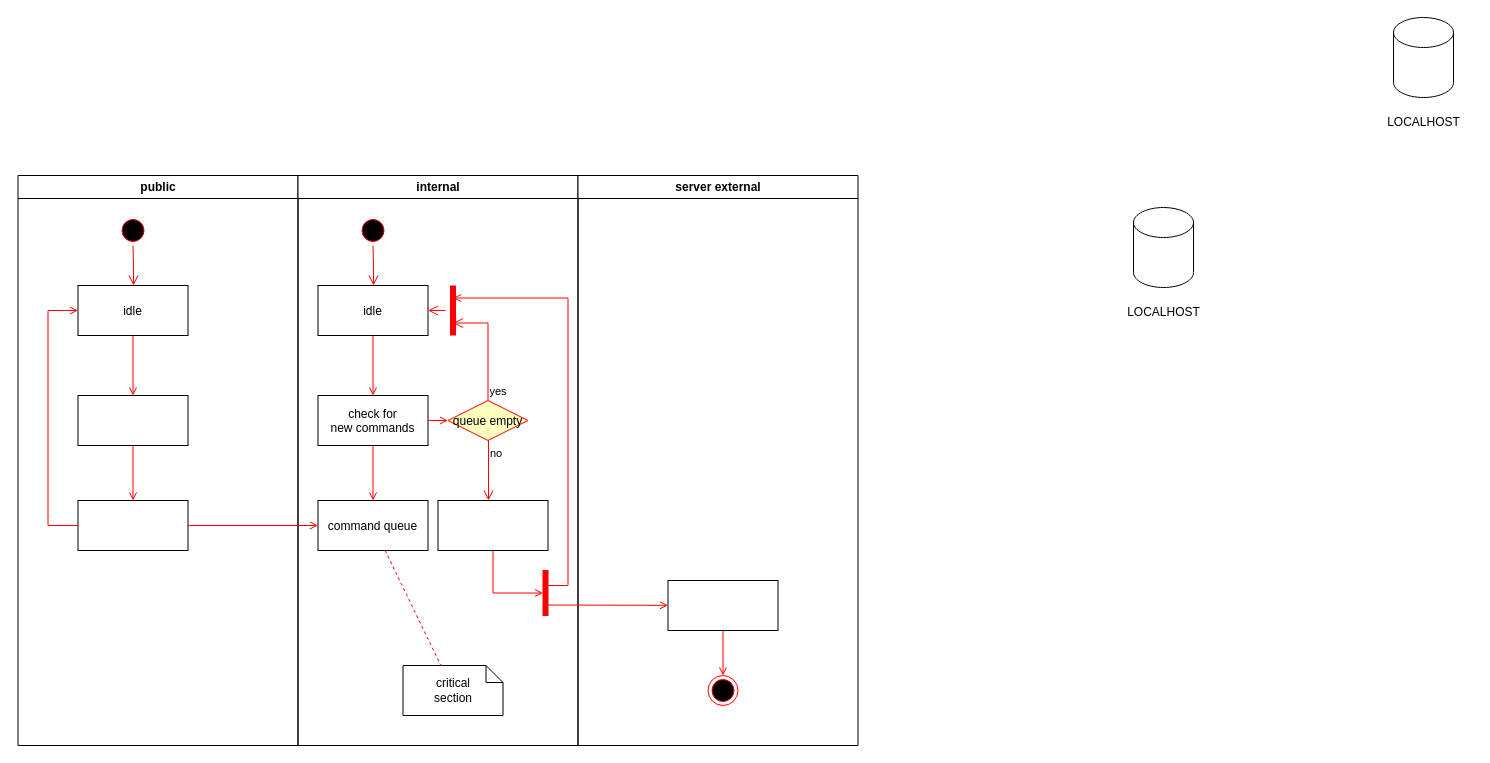
This 1490x763 diagram has some shape labels left out. Each missing label, with the centre of its shape:
"dispatch command worker thread" belongs at (x=492, y=525).
"post command" belongs at (x=132, y=525).
"process command" belongs at (x=722, y=605).
"user action" belongs at (x=132, y=420).
